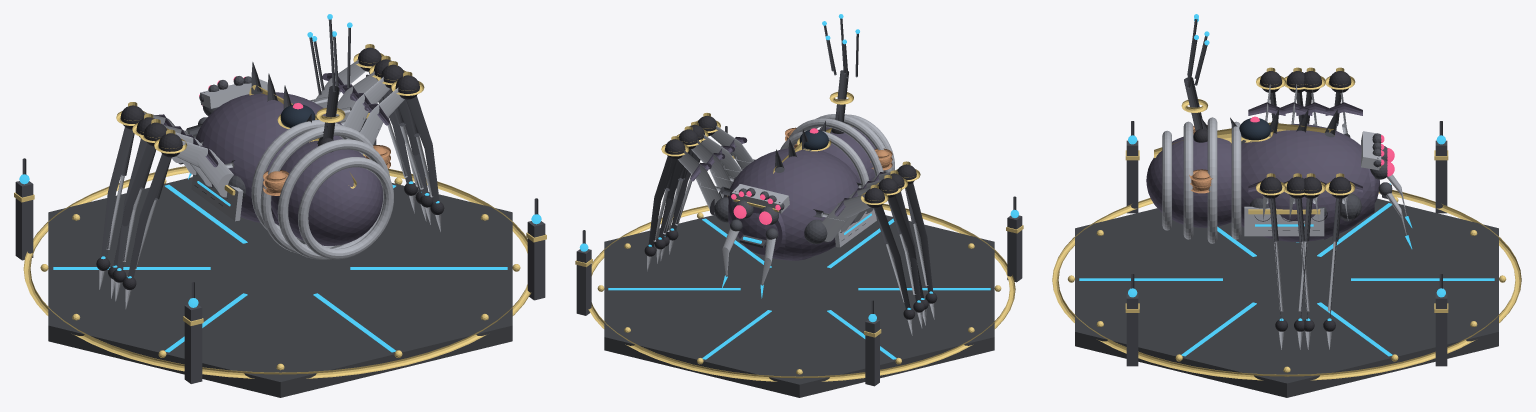
Rendered from arachne.glb.
The picture shows the model from 3 angles, left to right: view 1: azimuth 30°, elevation 25°; view 2: azimuth 150°, elevation 25°; view 3: azimuth 270°, elevation 25°; orthographic projection. The views are drawn at different scales.
Visible parts, largest first — view 1: plinth, abdomen, carapace_dome, plinth_rim, abd_band_3, abd_band_2, abd_band_1, abd_band_0, pylon_2, pylon_3, pylon_0, leg_L0_0_femur (+15 smaller); view 2: plinth, carapace_dome, plinth_rim, abd_band_1, pylon_1, pylon_2, pylon_0, abdomen, leg_L0_3_femur, leg_L0_0_tibia, leg_L1_3_femur, leg_L0_3_tibia (+16 smaller); view 3: plinth, carapace_dome, plinth_rim, abdomen, flank_plate_1, abd_band_1, abd_band_0, abd_band_2, abd_band_3, pylon_1, pylon_3, pylon_0 (+7 smaller).
Part boxes in pixels (box(x1,y1,x2,y2)): plinth: box(48, 177, 512, 397); abdomen: box(271, 141, 382, 245); carapace_dome: box(195, 92, 342, 224); plinth_rim: box(23, 166, 531, 378); abd_band_3: box(298, 157, 393, 259); abd_band_2: box(277, 139, 390, 259); abd_band_1: box(260, 125, 373, 253); abd_band_0: box(251, 120, 363, 240); pylon_2: box(184, 304, 202, 383); pylon_3: box(527, 221, 545, 300); pylon_0: box(15, 181, 33, 260); leg_L0_0_femur: box(176, 140, 233, 197); plinth: box(604, 215, 994, 397); carapace_dome: box(727, 147, 859, 259); plinth_rim: box(588, 203, 1015, 381); abd_band_1: box(789, 118, 883, 176); pylon_1: box(576, 249, 591, 315); pylon_2: box(1007, 215, 1022, 282); pylon_0: box(865, 319, 879, 386); abdomen: box(820, 127, 875, 183); leg_L0_3_femur: box(821, 194, 870, 241); leg_L0_0_tibia: box(906, 182, 933, 292); leg_L1_3_femur: box(678, 149, 721, 214); leg_L0_3_tibia: box(874, 205, 910, 308); plinth: box(1075, 198, 1498, 397); carapace_dome: box(1241, 124, 1379, 241); plinth_rim: box(1052, 190, 1521, 380); abdomen: box(1146, 134, 1231, 227); flank_plate_1: box(1244, 206, 1324, 236); abd_band_1: box(1207, 117, 1217, 243); abd_band_0: box(1231, 121, 1241, 239); abd_band_2: box(1183, 121, 1193, 239); abd_band_3: box(1162, 130, 1171, 230); pylon_1: box(1435, 293, 1447, 366); pylon_3: box(1126, 293, 1138, 366); pylon_0: box(1435, 140, 1447, 213).
Bounding box in the file's own units: 9.2 × 5.81 × 8.82.
